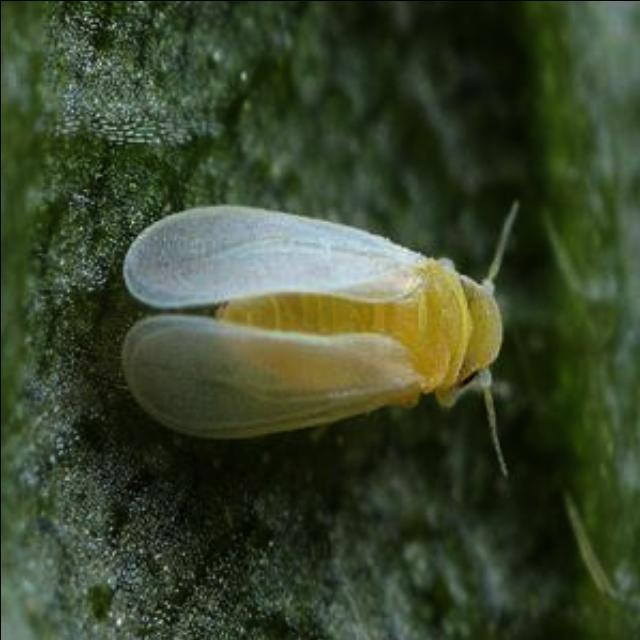Silverleaf whitefly: (92, 174, 578, 482)
